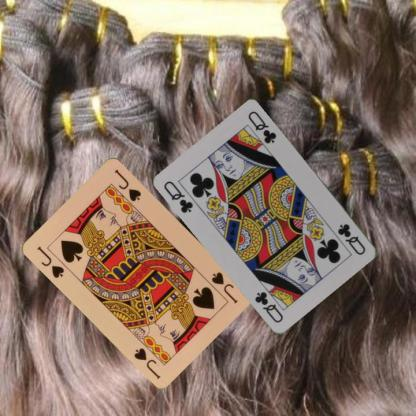Js: (35, 243, 66, 280), (209, 269, 240, 305)
Qc: (161, 178, 195, 215), (335, 221, 368, 256)
